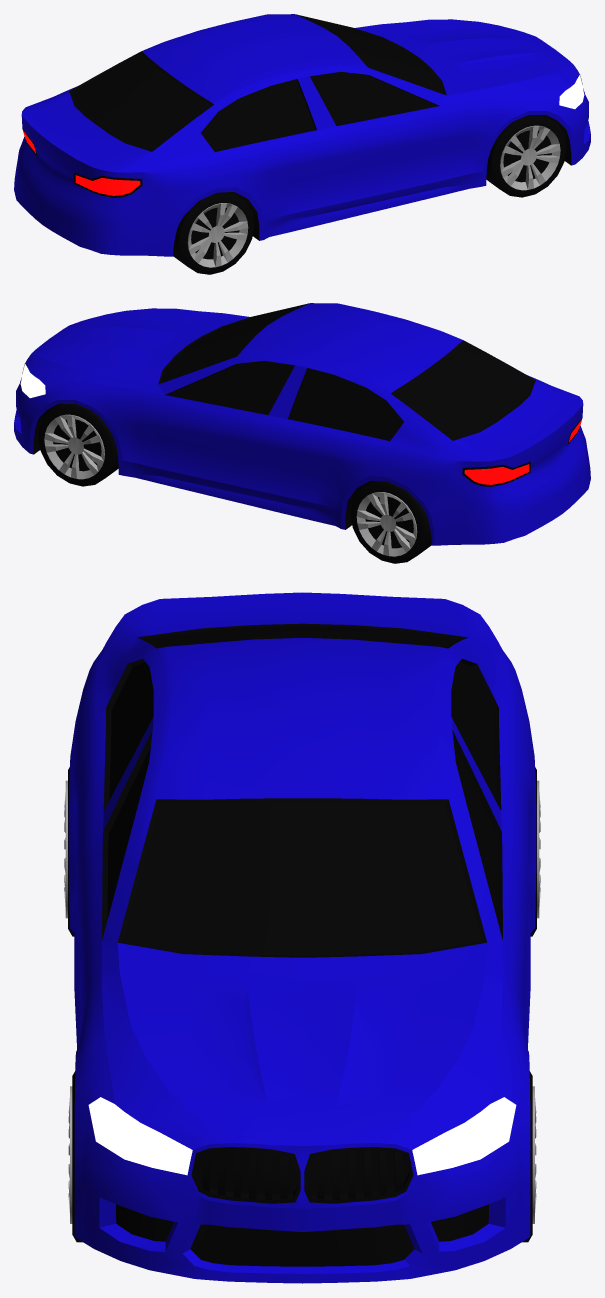
The model's file is bmw_m5.glb.
The picture shows the model from 3 angles, top to bottom: view 1: azimuth 30°, elevation 25°; view 2: azimuth 150°, elevation 25°; view 3: azimuth 270°, elevation 25°; orthographic projection. The views are drawn at different scales.
Parts seen in each view (by area): view 1: body, wheel_RR, wheel_FR; view 2: body, wheel_RL, wheel_FL; view 3: body, wheel_FR, wheel_FL.
Boxes of the visible parts, left/top/right/bottom form: body: left=14, top=14, right=590, bottom=256; wheel_RR: left=173, top=192, right=254, bottom=274; wheel_FR: left=486, top=115, right=566, bottom=197; body: left=14, top=303, right=590, bottom=545; wheel_RL: left=350, top=481, right=431, bottom=563; wheel_FL: left=38, top=404, right=118, bottom=486; body: left=68, top=592, right=536, bottom=1283; wheel_FR: left=68, top=1071, right=82, bottom=1242; wheel_FL: left=522, top=1071, right=536, bottom=1242.
Bounding box in the file's own units: 4.98 × 1.47 × 1.96.
